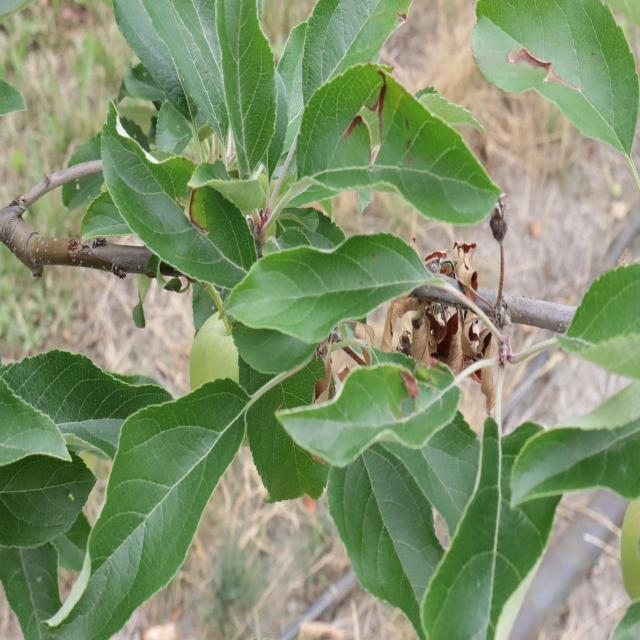-FireBlight-: (383, 303, 519, 387)
